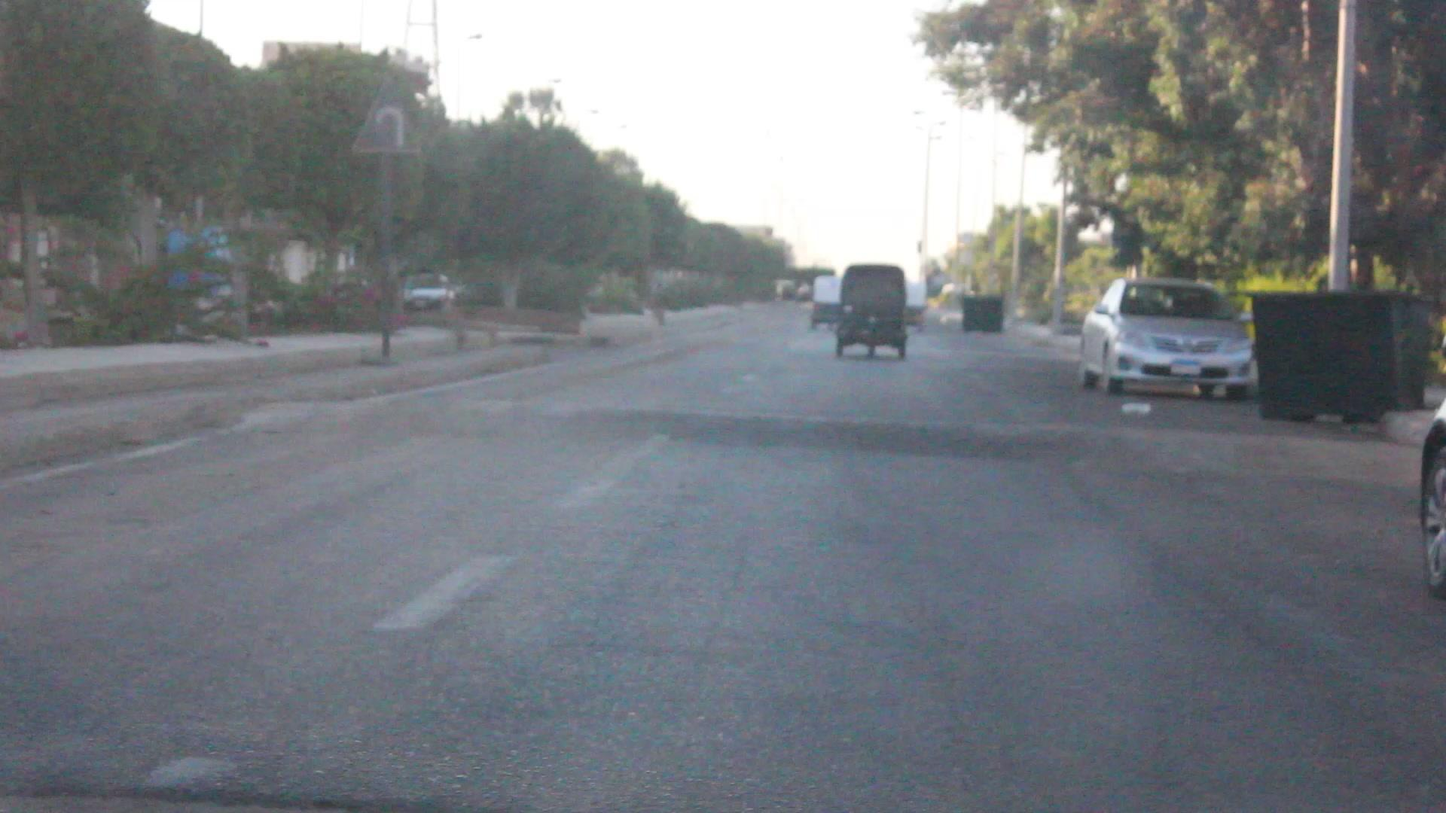Bump: (241, 401, 1408, 487)
